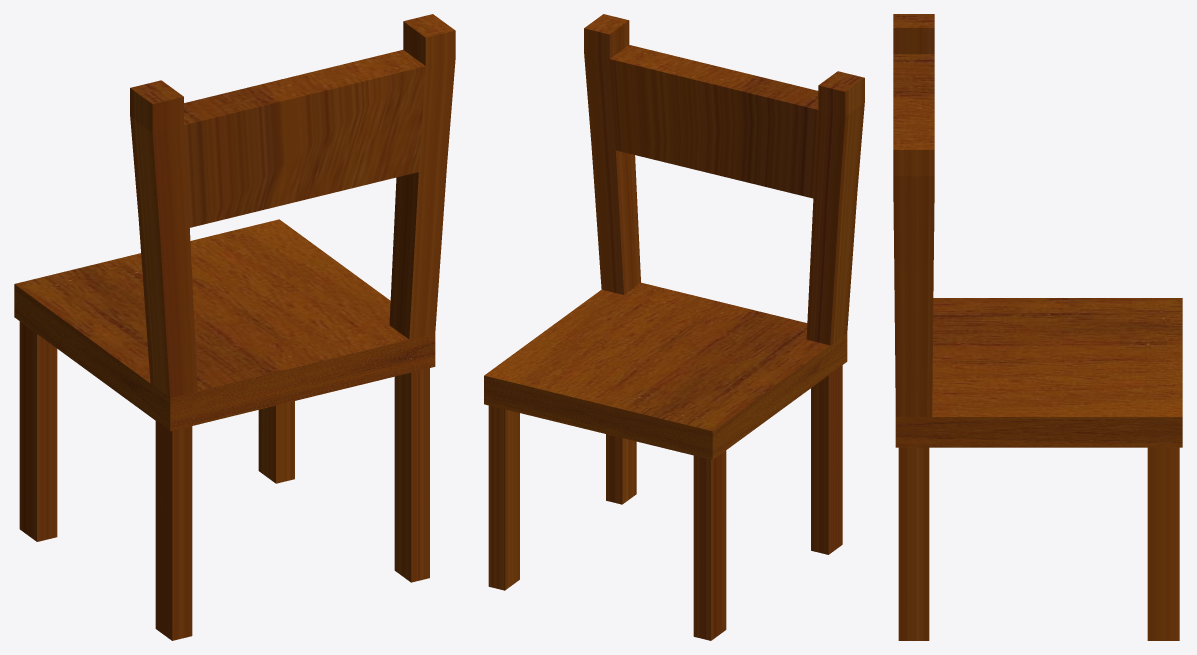
The model's file is Silla.fbx.
The picture shows the model from 3 angles, left to right: view 1: azimuth 30°, elevation 25°; view 2: azimuth 150°, elevation 25°; view 3: azimuth 270°, elevation 25°; orthographic projection. The views are drawn at different scales.
Visible parts, largest first — view 1: Cheer; view 2: Cheer; view 3: Cheer.
Part boxes in pixels (x1,y1,x2,y2): Cheer: (14,14,455,640); Cheer: (484,14,864,640); Cheer: (893,14,1182,640).
Size of the model in its own units: 330 by 566 by 297.
1 material, 1 textured.
